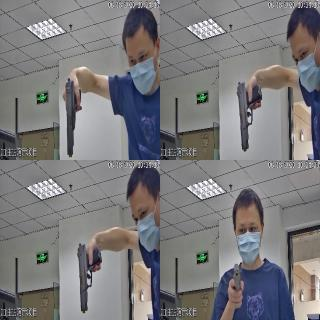gun: (74, 240, 106, 310), (234, 79, 266, 147), (60, 76, 82, 154), (227, 260, 243, 308)
